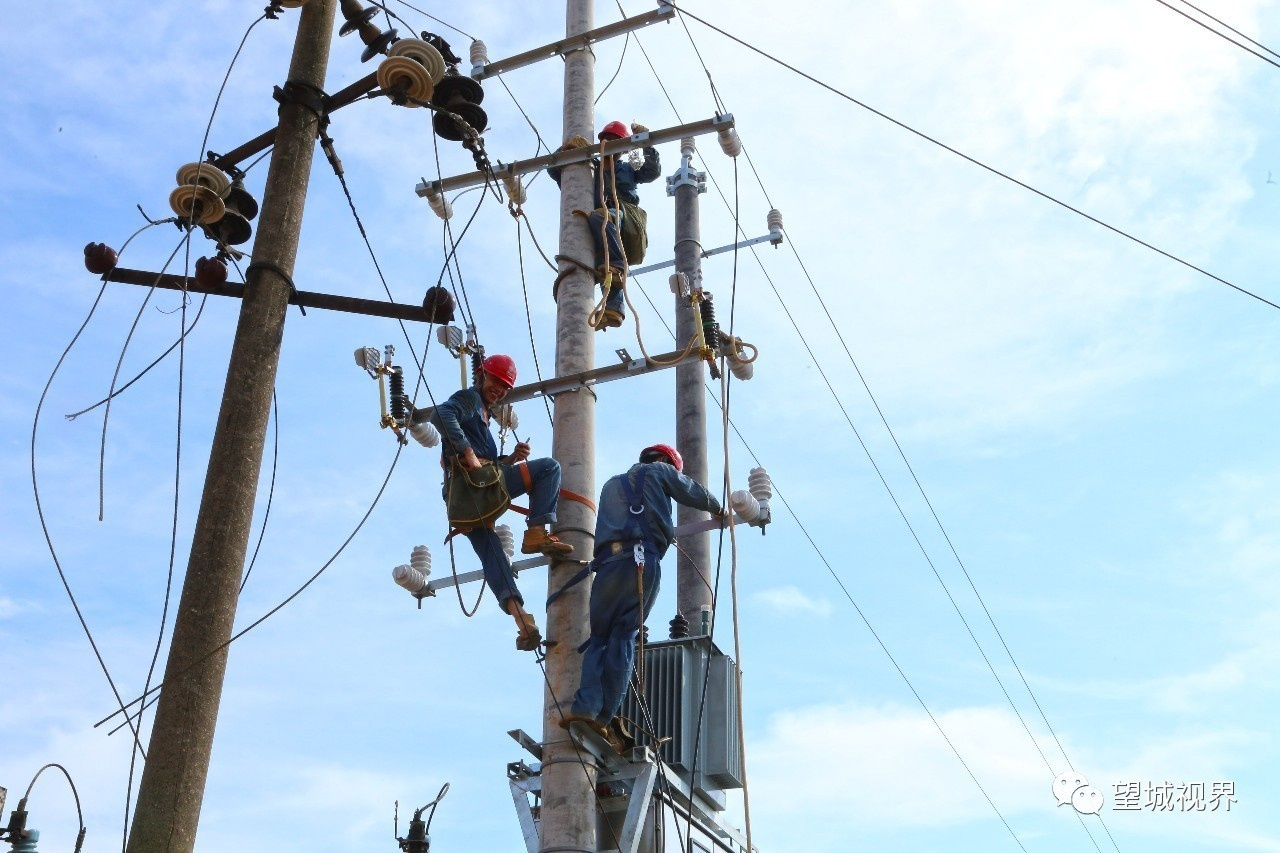red: (471, 354, 517, 407), (633, 436, 685, 477), (592, 116, 628, 157)
